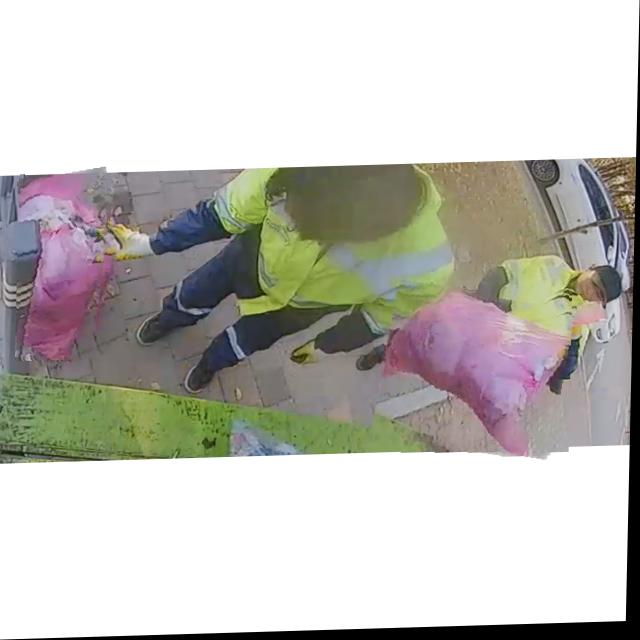other_trashbag: (386, 293, 572, 460), (20, 178, 110, 360)
